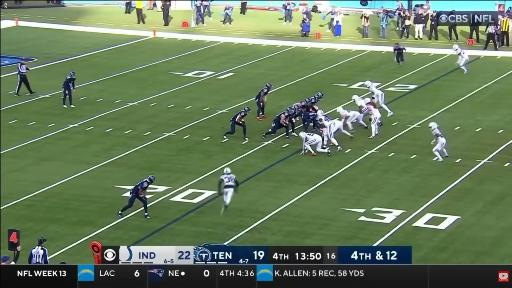Helmet: (315, 91, 324, 101), (337, 106, 345, 115), (429, 122, 438, 129), (148, 175, 155, 183), (287, 107, 295, 114), (317, 109, 324, 116), (352, 94, 359, 101), (452, 44, 459, 50), (244, 106, 250, 113), (310, 97, 316, 103), (266, 83, 272, 89), (70, 71, 76, 77), (305, 98, 311, 104), (365, 81, 371, 87), (299, 132, 306, 137), (224, 168, 230, 173), (364, 98, 370, 103), (394, 43, 400, 48)
Jersey: (130, 179, 149, 194), (220, 174, 238, 188), (303, 133, 321, 145), (354, 99, 368, 114), (231, 110, 247, 123), (342, 110, 360, 121), (367, 103, 381, 117), (255, 87, 269, 101), (368, 85, 383, 98), (275, 111, 290, 123), (317, 115, 330, 128), (63, 76, 75, 89), (433, 128, 445, 141), (455, 48, 468, 58), (306, 103, 318, 113), (394, 45, 406, 54), (293, 103, 305, 111)
Player: (118, 176, 154, 218), (318, 110, 353, 151), (262, 107, 295, 140), (365, 81, 393, 116), (218, 168, 239, 214), (224, 106, 250, 140), (429, 123, 449, 161), (337, 107, 367, 131), (300, 132, 330, 155), (255, 83, 272, 120), (303, 97, 318, 131), (367, 102, 381, 138), (63, 71, 76, 107), (453, 45, 469, 74), (352, 95, 370, 117), (288, 107, 298, 136), (394, 43, 406, 66), (293, 101, 306, 118), (315, 92, 323, 104)
